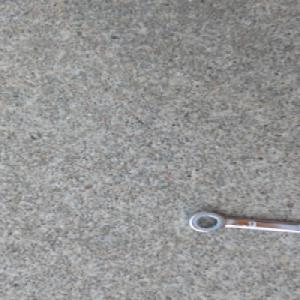Wrench: (185, 209, 300, 236)
